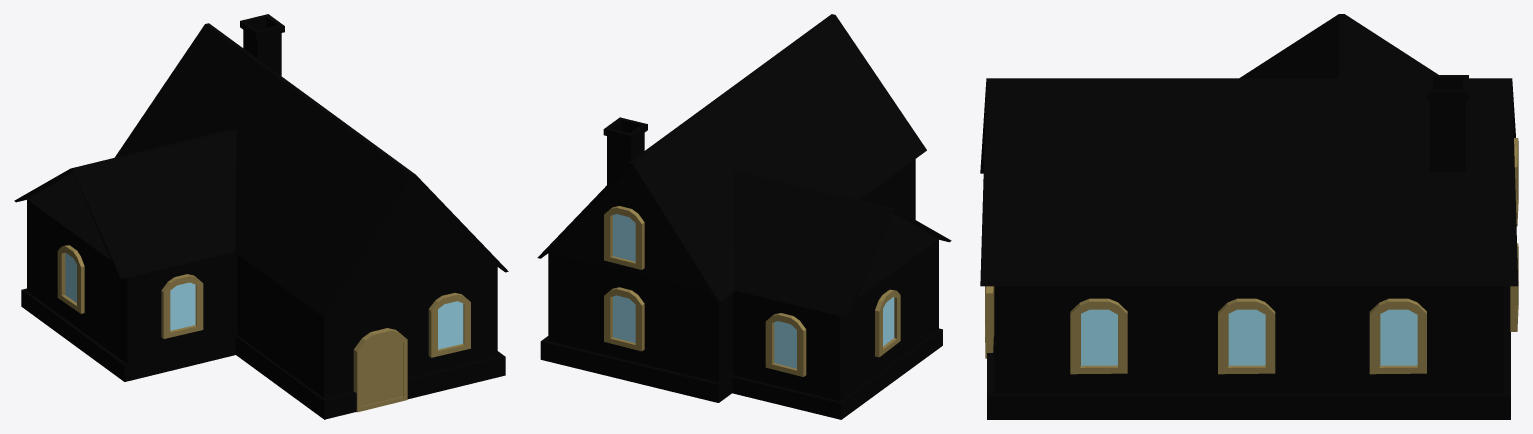
The model's file is House.fbx.
3 renders of one model, left to right at view 1: azimuth 30°, elevation 25°; view 2: azimuth 150°, elevation 25°; view 3: azimuth 270°, elevation 25°, orthographic. The views are drawn at different scales.
Parts seen in each view (by area): view 1: Cube.2593; view 2: Cube.2593; view 3: Cube.2593.
Boxes of the visible parts, left/top/right/bottom form: Cube.2593: left=14, top=14, right=508, bottom=419; Cube.2593: left=537, top=14, right=951, bottom=419; Cube.2593: left=980, top=14, right=1518, bottom=419.
Size of the model in its own units: 152 by 114 by 187.
